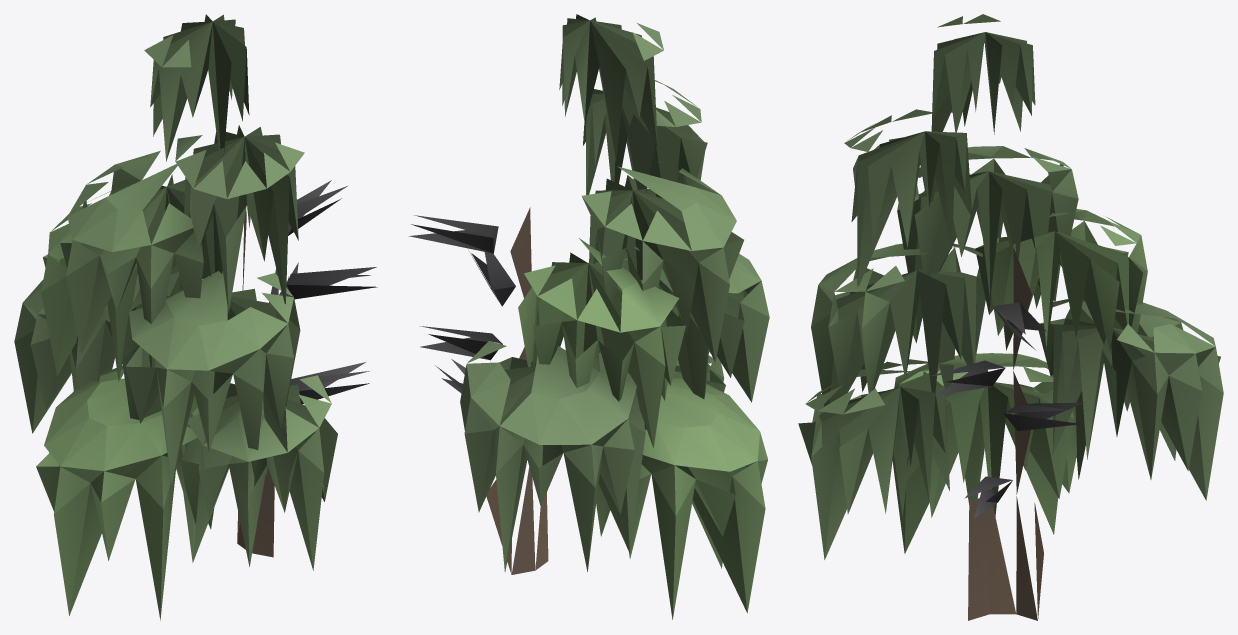
Rendered from scorched.lod.glb.
The picture shows the model from 3 angles, left to right: view 1: azimuth 30°, elevation 25°; view 2: azimuth 150°, elevation 25°; view 3: azimuth 270°, elevation 25°; orthographic projection. The views are drawn at different scales.
Visible parts, largest first — view 1: scorched; view 2: scorched; view 3: scorched.
Part boxes in pixels (x1,y1,x2,y2): scorched: [14, 14, 377, 620]; scorched: [408, 14, 769, 619]; scorched: [798, 14, 1223, 620].
Size of the model in its own units: 4.63 by 7.61 by 5.11.
